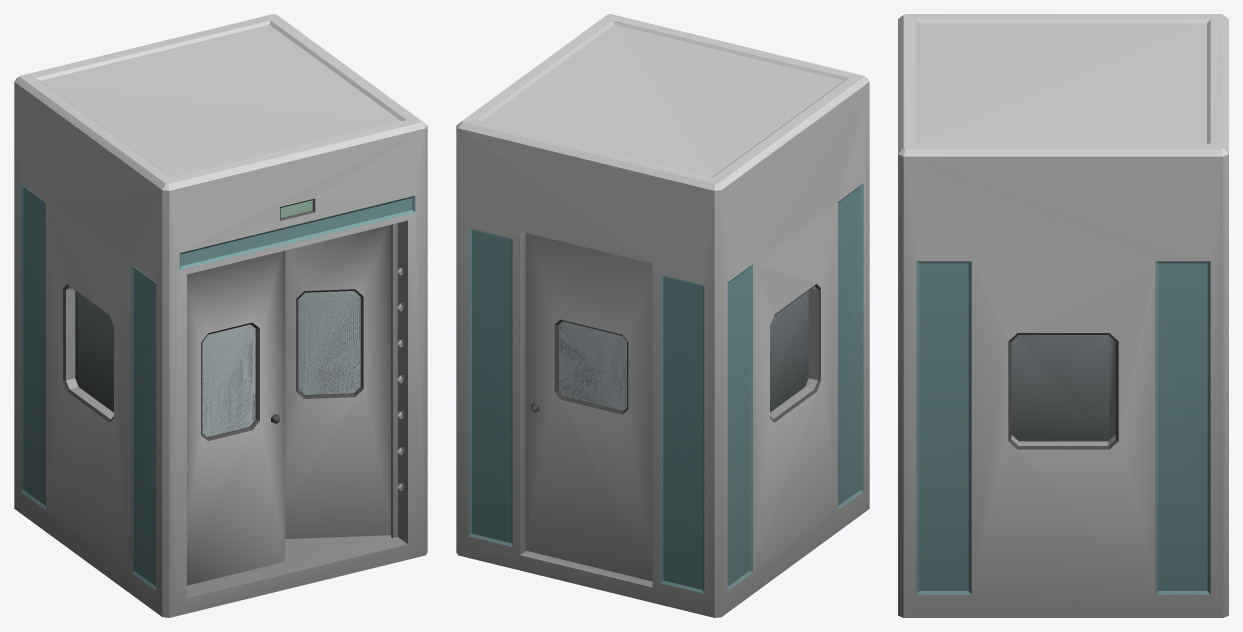
The model's file is airlock.glb.
3 renders of one model, left to right at view 1: azimuth 30°, elevation 25°; view 2: azimuth 150°, elevation 25°; view 3: azimuth 270°, elevation 25°, orthographic. The views are drawn at different scales.
Parts seen in each view (by area): view 1: airlock; view 2: airlock; view 3: airlock.
Part boxes in pixels (bbox=[...]): airlock: bbox=[14, 14, 427, 617]; airlock: bbox=[456, 14, 869, 617]; airlock: bbox=[898, 14, 1228, 617].
Size of the model in its own units: 1.8 by 2.8 by 1.8.
